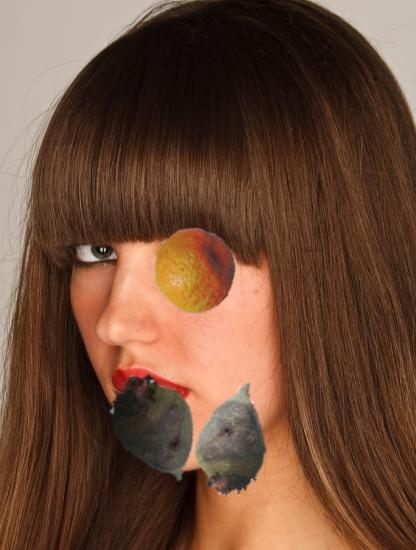Beetroot: (172, 379, 293, 500), (97, 368, 217, 488)
Mandarine: (153, 227, 238, 312)
